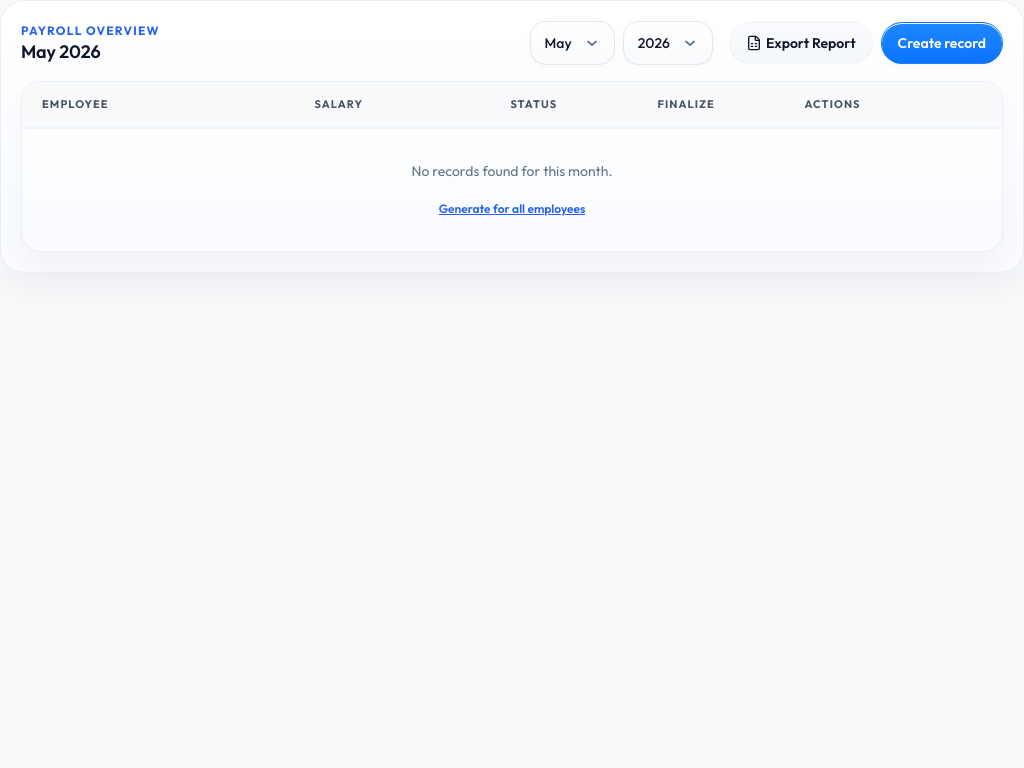
Test: PayrollPage › allows creating and viewing payroll records
The width and height of the screenshot is (1024, 768).
// Click "Create record" to open modal
Click the button "Create record" at (942, 43), box [881, 22, 1003, 64]
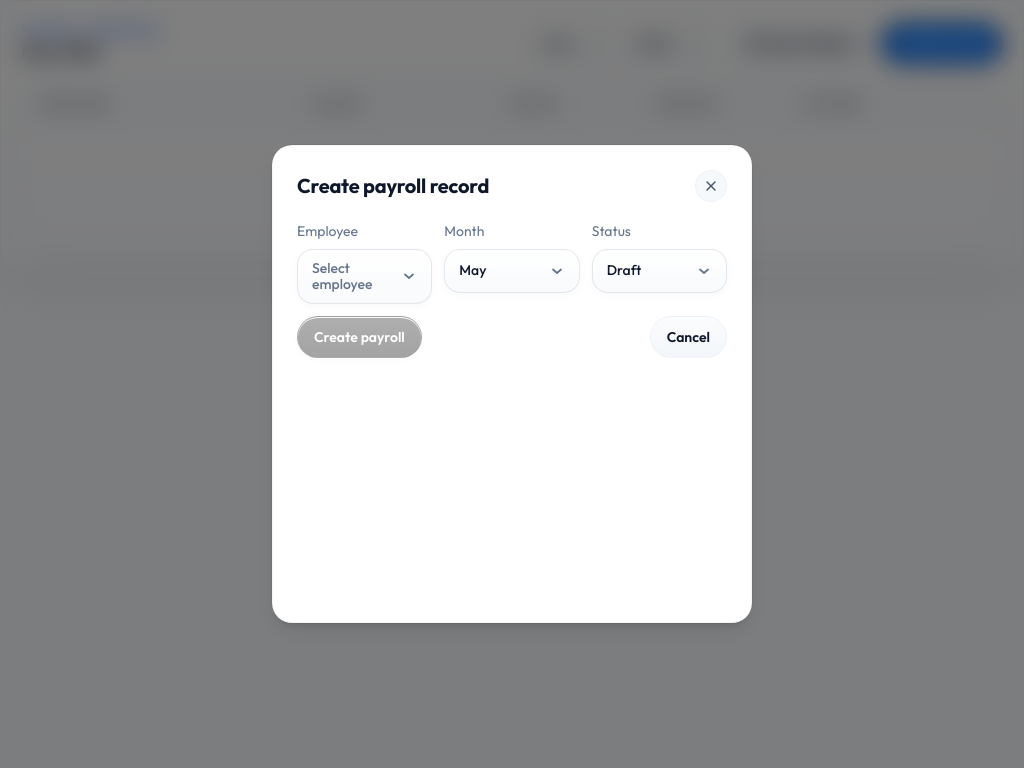
// Wait for modal to appear and click "Select employee" trigger
Click the button "Select employee" at (365, 276), box [297, 249, 432, 304]
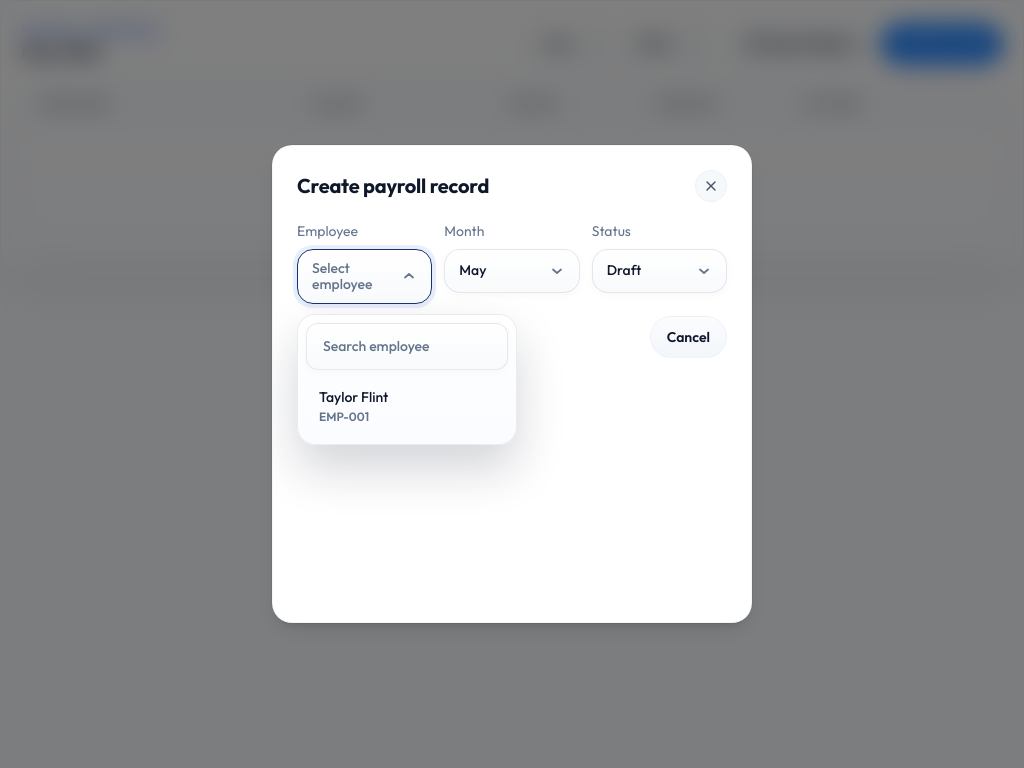
// Wait for the dropdown option to appear and select it
Click the option "Taylor Flint EMP-001" at (407, 407), box [306, 378, 508, 436]
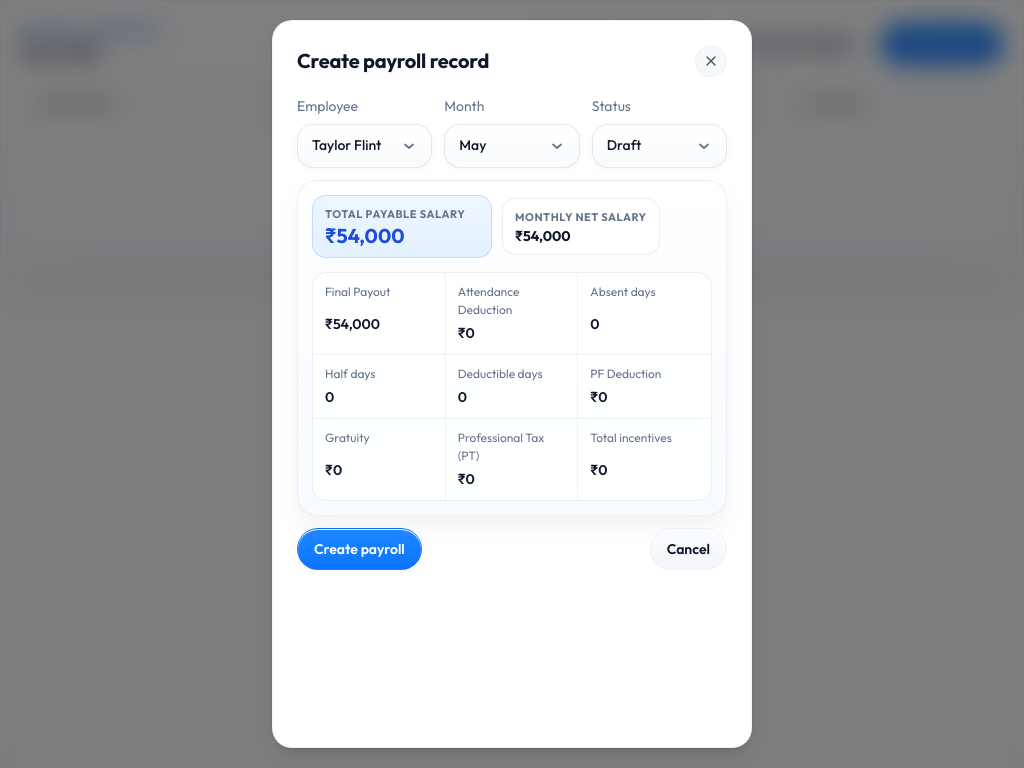
// Submit the form
Click the button "Create payroll" at (359, 549), box [297, 528, 422, 570]
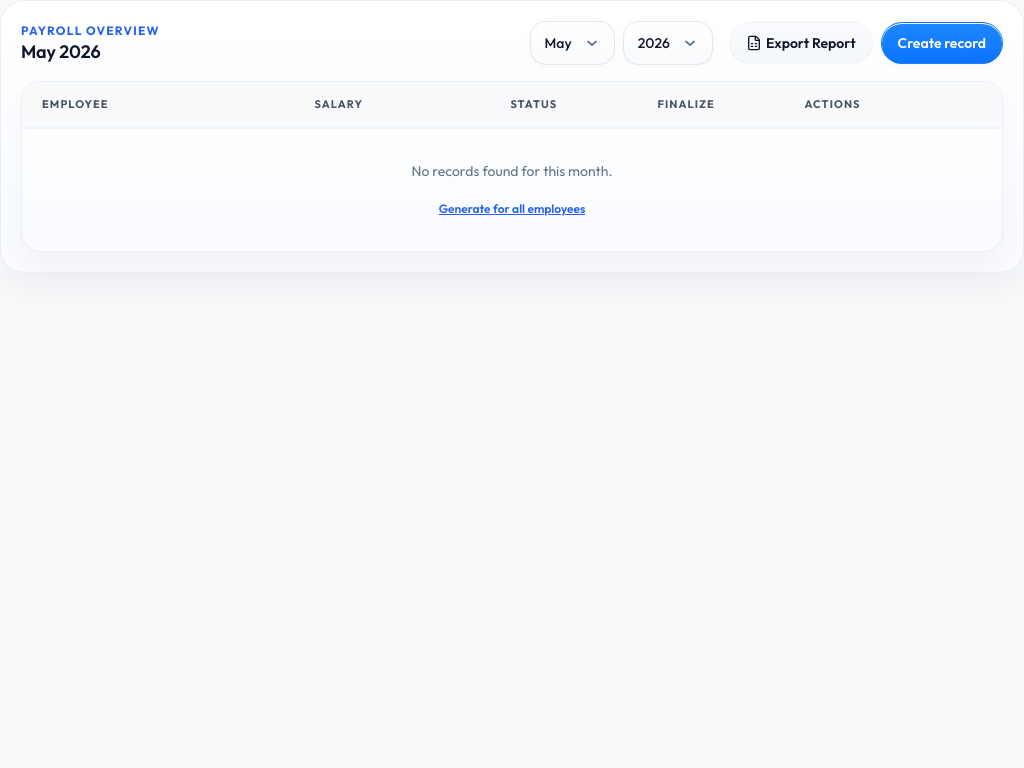
Expected: the dialog is gone
